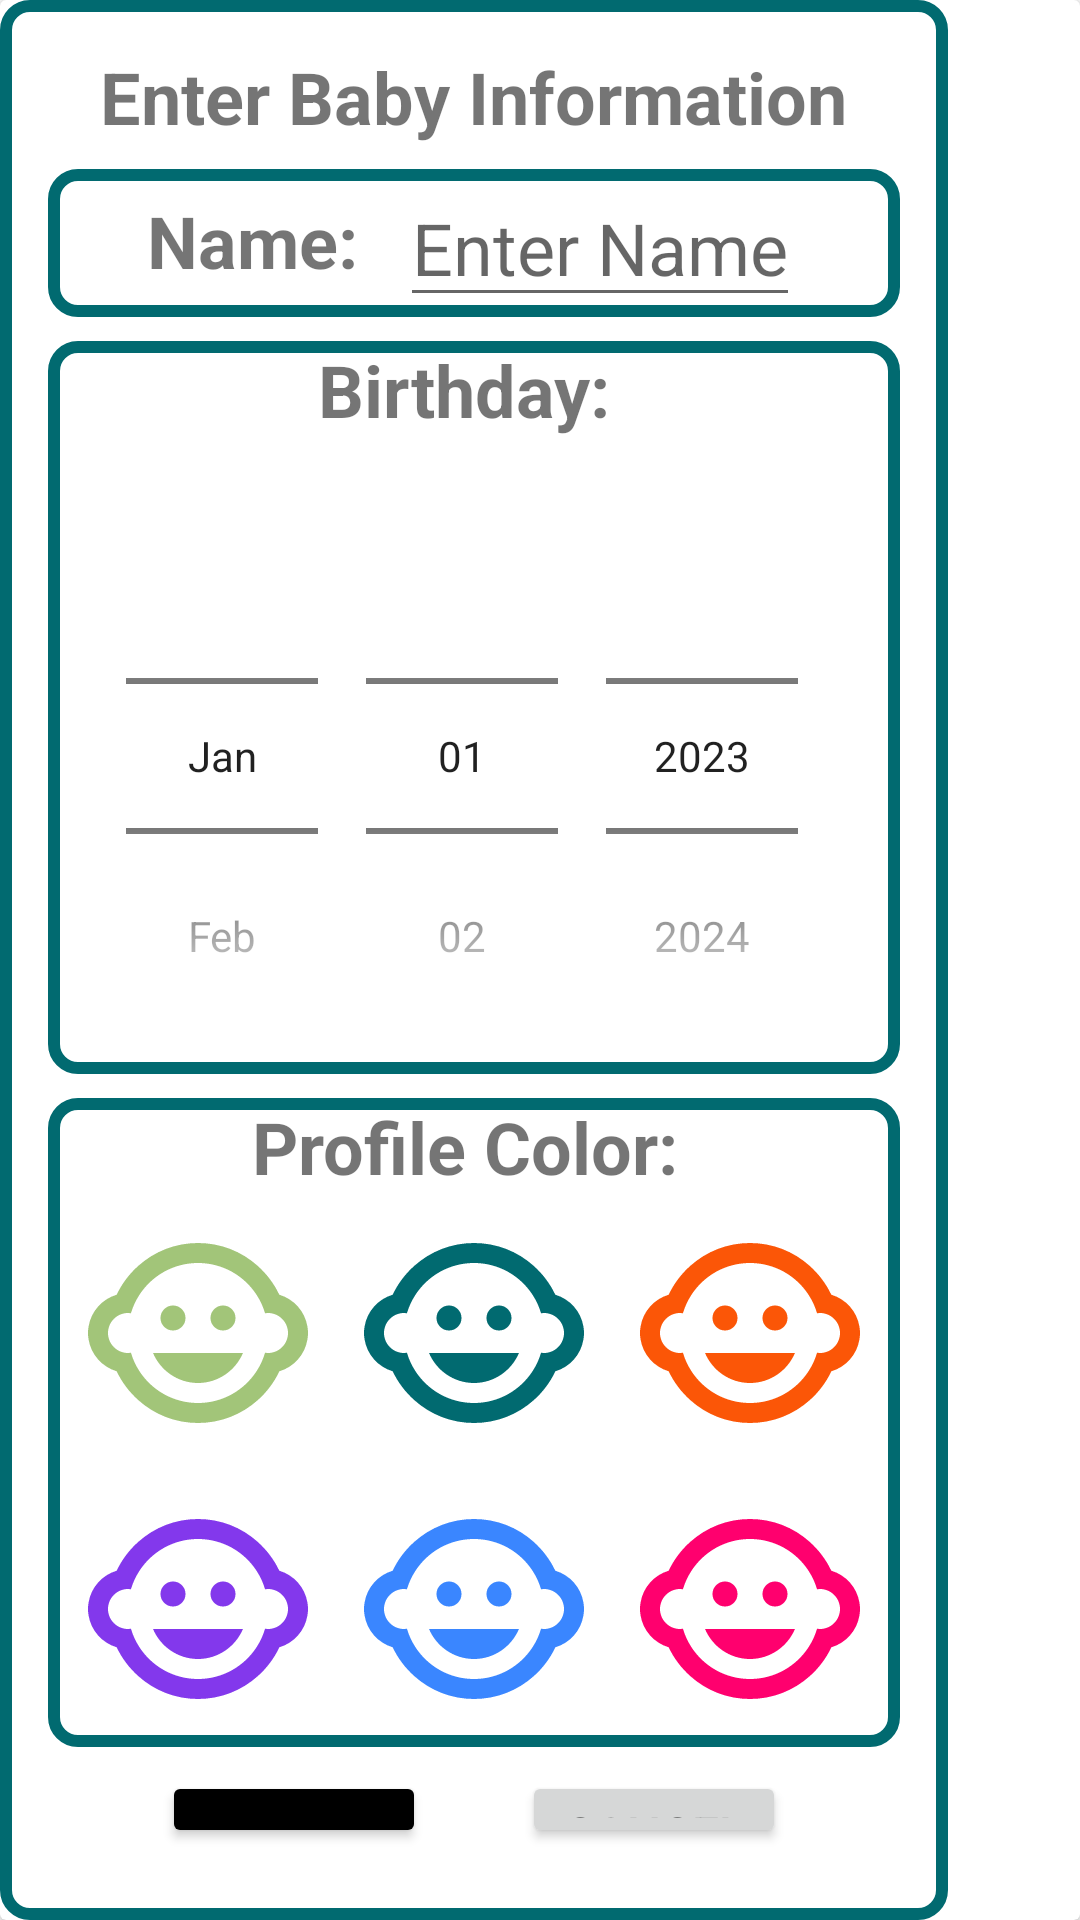

Icons on this 1080 x 1920 Android screen, each with its box as (x1, y1, x2, y2):
child: (88, 1243, 308, 1423), (364, 1243, 584, 1423), (640, 1243, 860, 1423), (88, 1519, 308, 1699), (364, 1519, 584, 1699), (640, 1519, 860, 1699)
